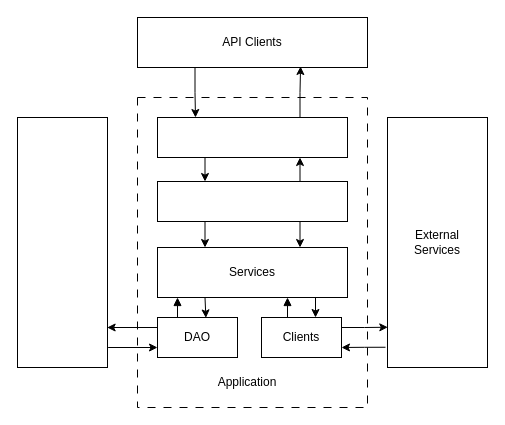
This 505x425 diagram has some shape labels left out. Here are the shapes that lost their labels. From the top down, the centre of each, then its label:
At point 252,137: "Tomcat".
At point 252,201: "Controllers".
At point 62,242: "Database".
